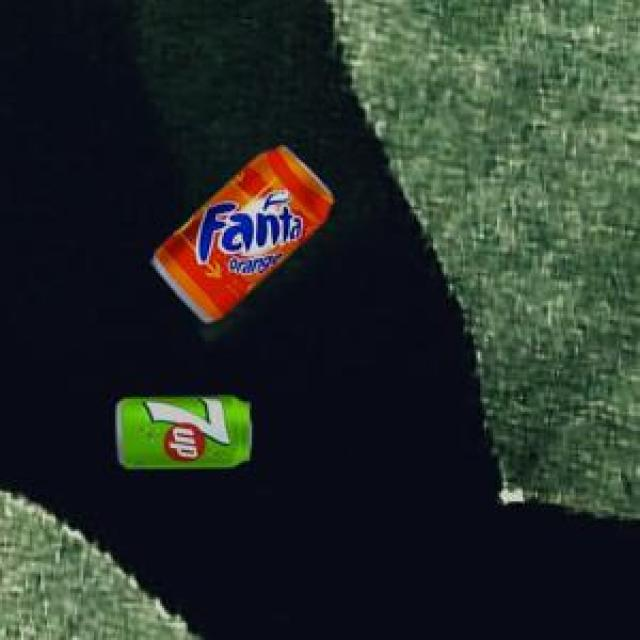logam: (150, 144, 330, 319), (114, 394, 249, 464)
